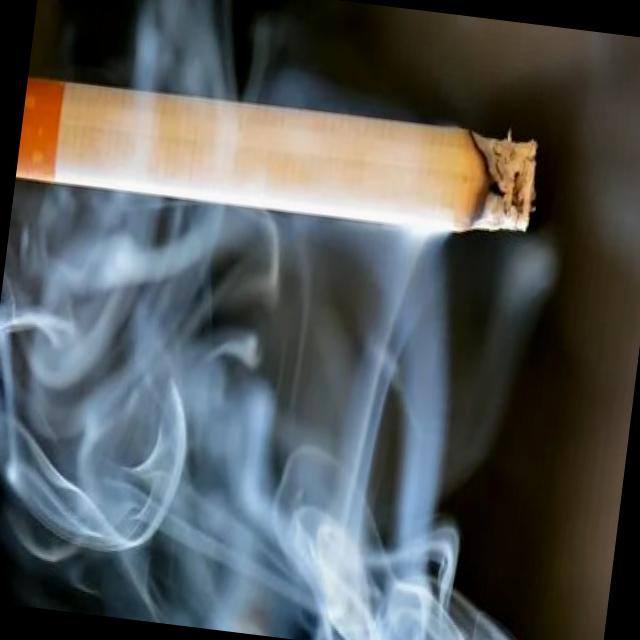smoke: (14, 67, 549, 250)
